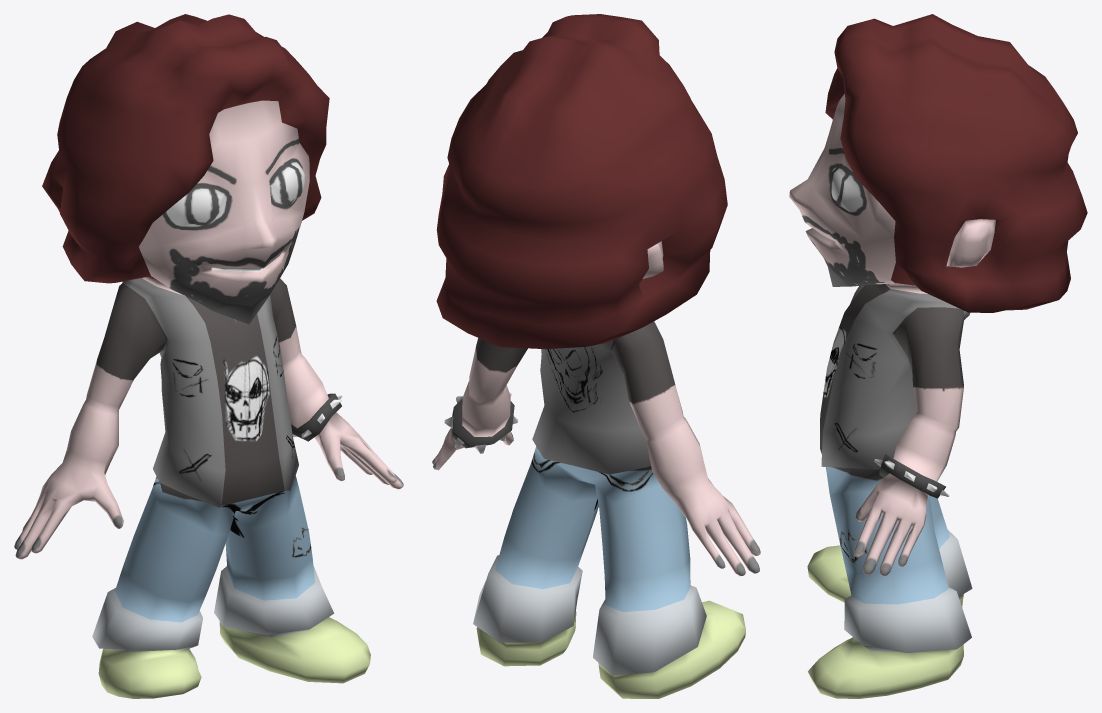
The model's file is rockero_rigging_000040.obj.
The picture shows the model from 3 angles, left to right: view 1: azimuth 30°, elevation 25°; view 2: azimuth 150°, elevation 25°; view 3: azimuth 270°, elevation 25°; orthographic projection. The views are drawn at different scales.
Parts seen in each view (by area): view 1: Cylinder.001; view 2: Cylinder.001; view 3: Cylinder.001.
Boxes of the visible parts, left/top/right/bottom form: Cylinder.001: left=14, top=14, right=403, bottom=698; Cylinder.001: left=432, top=14, right=760, bottom=698; Cylinder.001: left=789, top=14, right=1087, bottom=698.
Size of the model in its own units: 2.77 by 4.8 by 2.11.
Materials: 1 (1 with a texture image).
